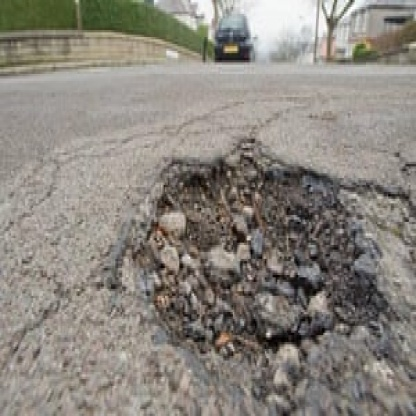pothole: (124, 122, 398, 375)
